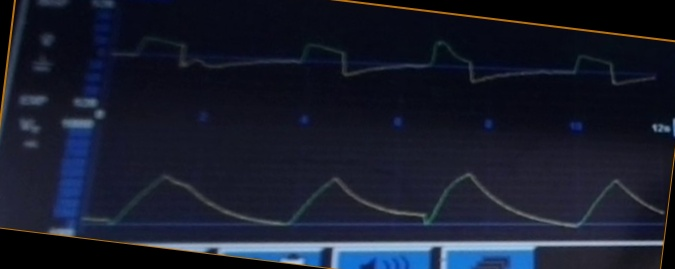Premature_cycling Flow: (112, 33, 654, 100)
Premature_cycling Volume: (87, 165, 662, 236)
